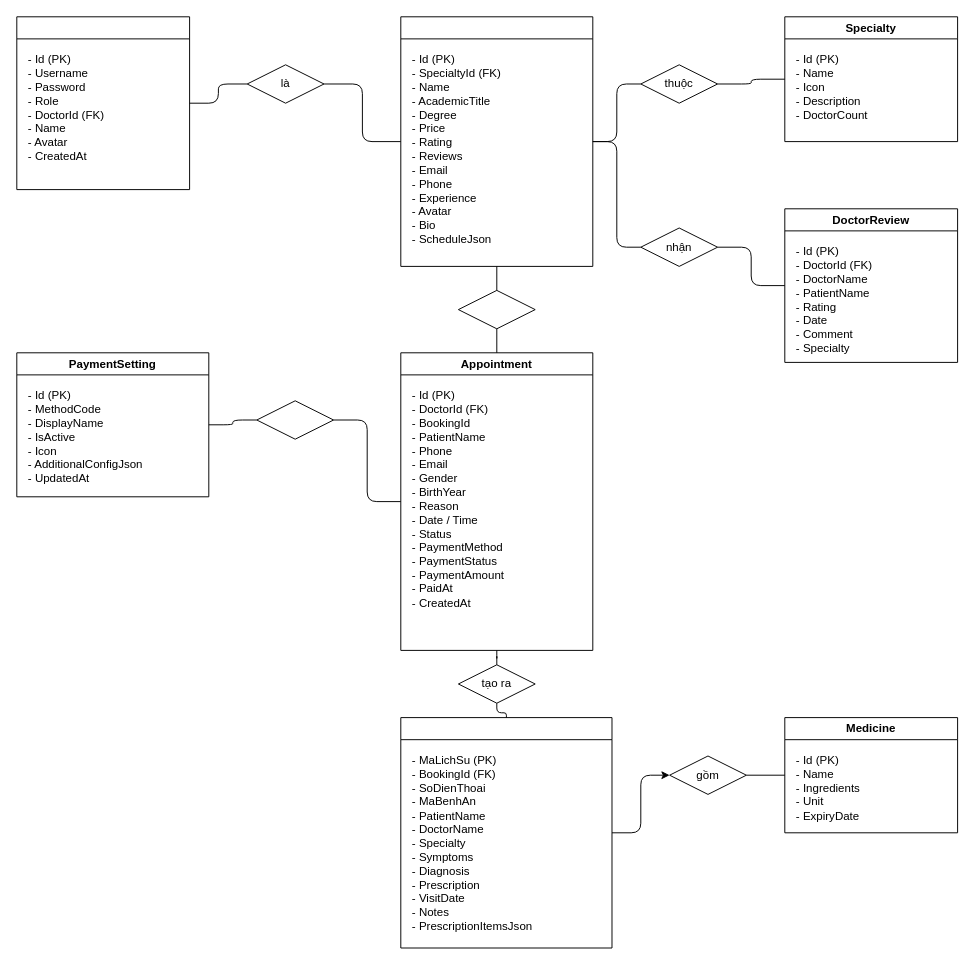
Image size: 974x965. Some labels were removed from this diagram. The box of each missing label's shape, as (x1, y1, x2, y2) in pixels:
Account: (16, 16, 190, 190)
có: (457, 289, 535, 329)
Doctor: (400, 16, 593, 266)
MedicalHistory: (400, 717, 612, 948)
áp dụng: (256, 400, 334, 439)
